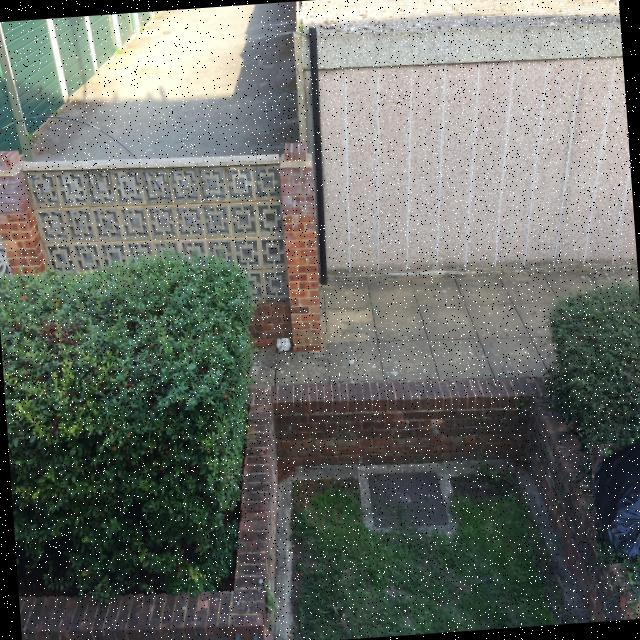Egg carton: (277, 338, 290, 349)
Garbage bag: (594, 442, 640, 561)
